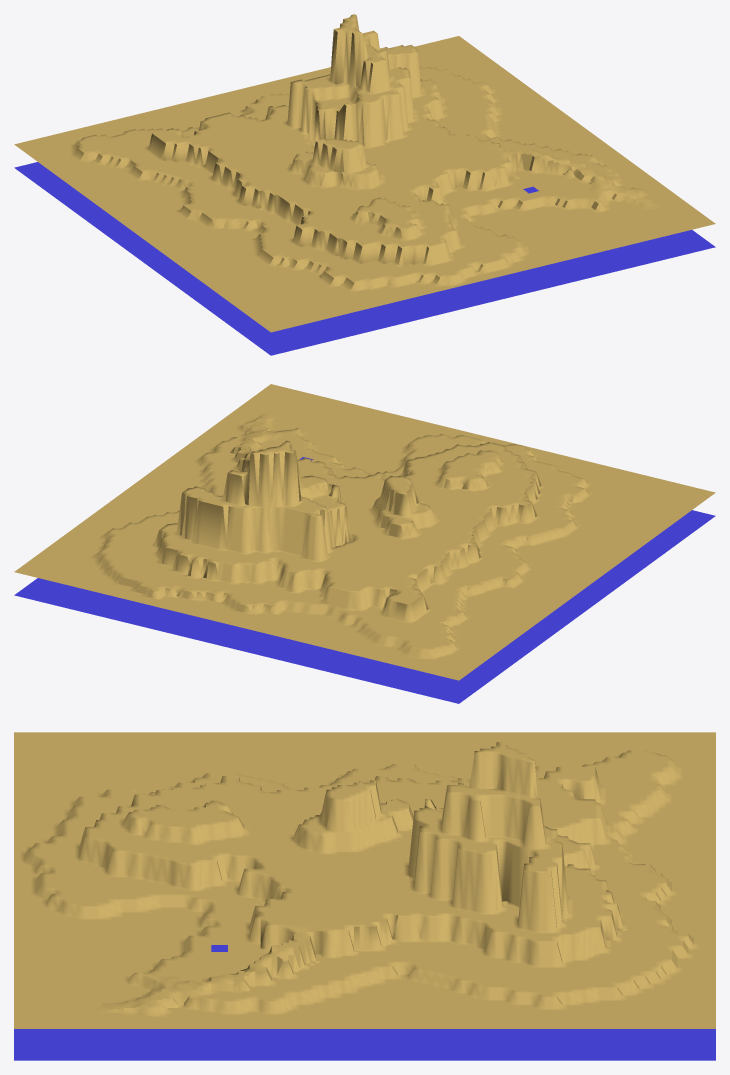
Rendered from Mountain.glb.
The picture shows the model from 3 angles, top to bottom: view 1: azimuth 30°, elevation 25°; view 2: azimuth 150°, elevation 25°; view 3: azimuth 270°, elevation 25°; orthographic projection. The views are drawn at different scales.
Visible parts, largest first — view 1: Landscape, BasePlate; view 2: Landscape, BasePlate; view 3: Landscape, BasePlate.
Boxes of the visible parts, x1,y1,x2,y2 form: Landscape: (14, 14, 715, 332); BasePlate: (14, 162, 715, 355); Landscape: (14, 384, 715, 680); BasePlate: (14, 457, 715, 703); Landscape: (14, 732, 715, 1028); BasePlate: (14, 945, 715, 1060).
Size of the model in its own units: 2 by 0.5798 by 2.
